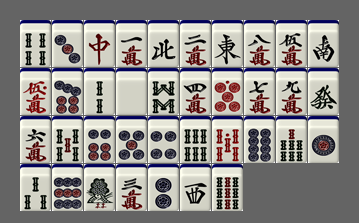0m: (20, 68, 51, 115)
0p: (212, 68, 243, 115)
0s: (212, 116, 243, 163)
1m: (116, 20, 147, 67)
1p: (308, 116, 339, 163)
1s: (84, 164, 115, 211)
1z: (212, 20, 243, 67)
2m: (180, 20, 211, 67)
2p: (148, 164, 179, 211)
2s: (84, 68, 115, 115)
2z: (308, 20, 339, 67)
3m: (116, 164, 147, 211)
3p: (52, 20, 83, 67)
3s: (20, 164, 51, 211)
3z: (180, 164, 211, 211)
4m: (180, 68, 211, 115)
4p: (148, 116, 179, 163)
4s: (20, 20, 51, 67)
4z: (148, 20, 179, 67)
5m: (276, 20, 307, 67)
5p: (116, 116, 147, 163)
5s: (52, 116, 83, 163)
5z: (116, 68, 147, 115)
6m: (20, 116, 51, 163)
6p: (84, 116, 115, 163)
6s: (180, 116, 211, 163)
6z: (308, 68, 339, 115)
7m: (244, 68, 275, 115)
7p: (52, 68, 83, 115)
7s: (276, 116, 307, 163)
7z: (84, 20, 115, 67)
8m: (244, 20, 275, 67)
8p: (244, 116, 275, 163)
8s: (148, 68, 179, 115)
9m: (276, 68, 307, 115)
9p: (52, 164, 83, 211)
9s: (212, 164, 243, 211)
